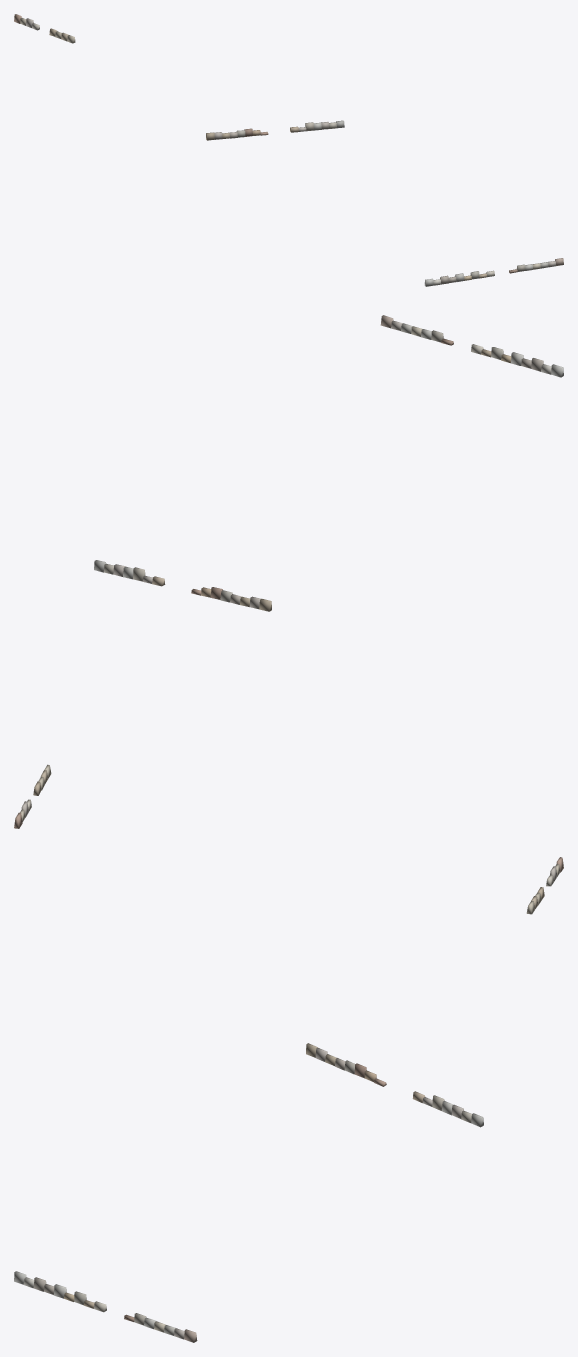
File: farm_17_17_far.glb
3 renders of one model, top to bottom at view 1: azimuth 30°, elevation 25°; view 2: azimuth 150°, elevation 25°; view 3: azimuth 330°, elevation 25°, orthographic. The views are drawn at different scales.
Parts seen in each view (by area): view 1: geometry_0; view 2: geometry_0; view 3: geometry_0.
Part boxes in pixels (x1,y1,x2,y2): geometry_0: [14, 14, 563, 286]; geometry_0: [14, 315, 563, 828]; geometry_0: [14, 857, 563, 1342].
Size of the model in its own units: 33.7 by 4.05 by 151.
